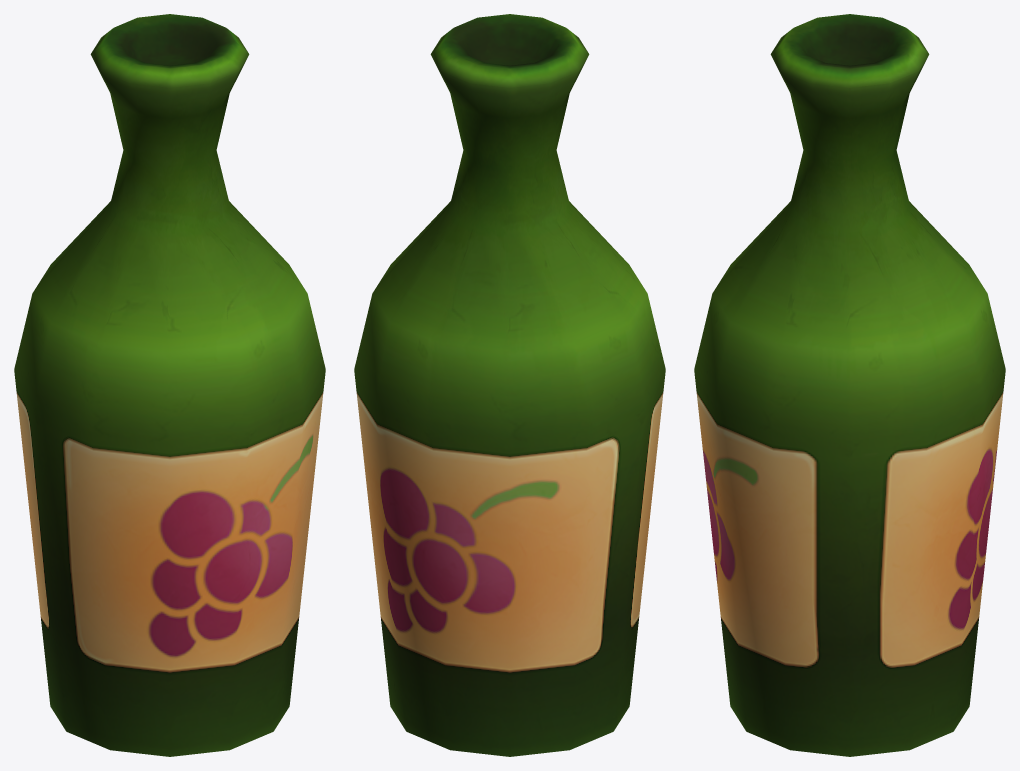
File: SE_Bottle_02.fbx
The picture shows the model from 3 angles, left to right: view 1: azimuth 30°, elevation 25°; view 2: azimuth 150°, elevation 25°; view 3: azimuth 270°, elevation 25°; orthographic projection.
Visible parts, largest first — view 1: SE_Bottle_02; view 2: SE_Bottle_02; view 3: SE_Bottle_02.
Part boxes in pixels (left/top/right/bottom): SE_Bottle_02: left=14, top=14, right=325, bottom=756; SE_Bottle_02: left=354, top=14, right=665, bottom=756; SE_Bottle_02: left=694, top=14, right=1005, bottom=756.
Size of the model in its own units: 1.1 by 2.58 by 1.1.
